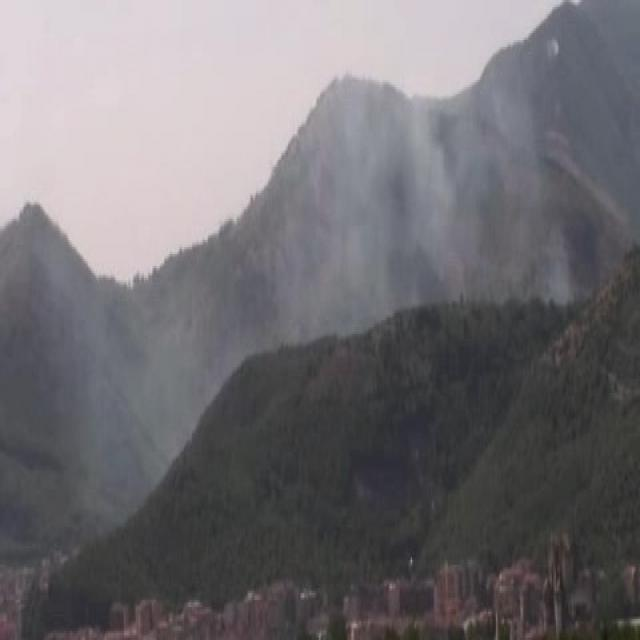smoke: (288, 75, 514, 303)
